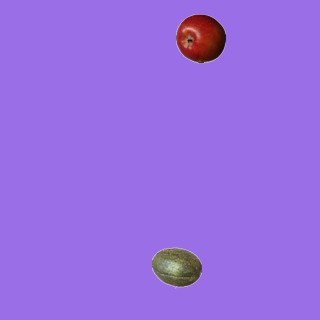Apple Braeburn: (175, 13, 225, 63)
Melon Piel de Sapo: (151, 242, 201, 292)
